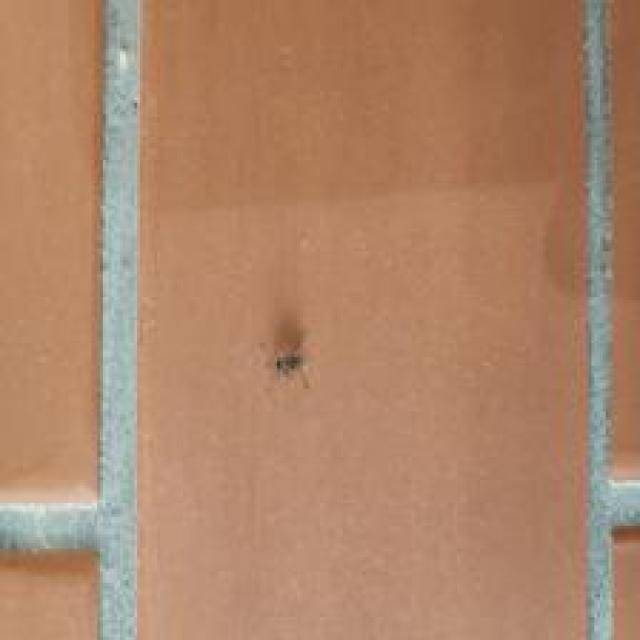Aedes albopictus: (273, 346, 310, 388)
